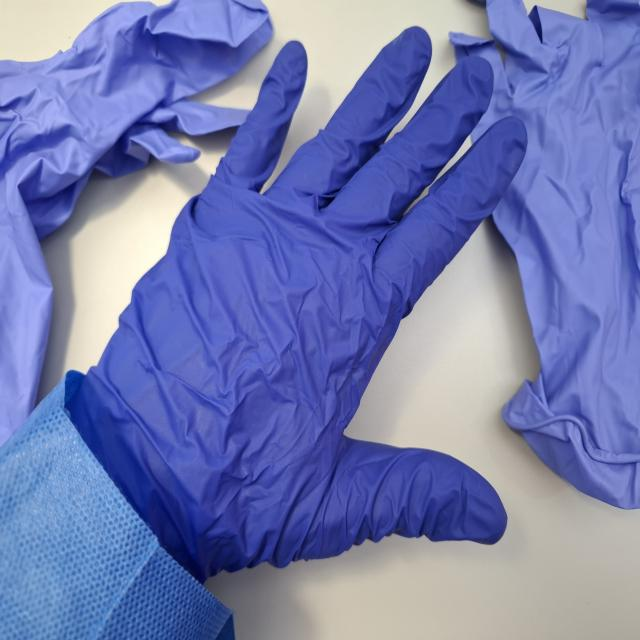glove_on: (61, 20, 530, 587)
